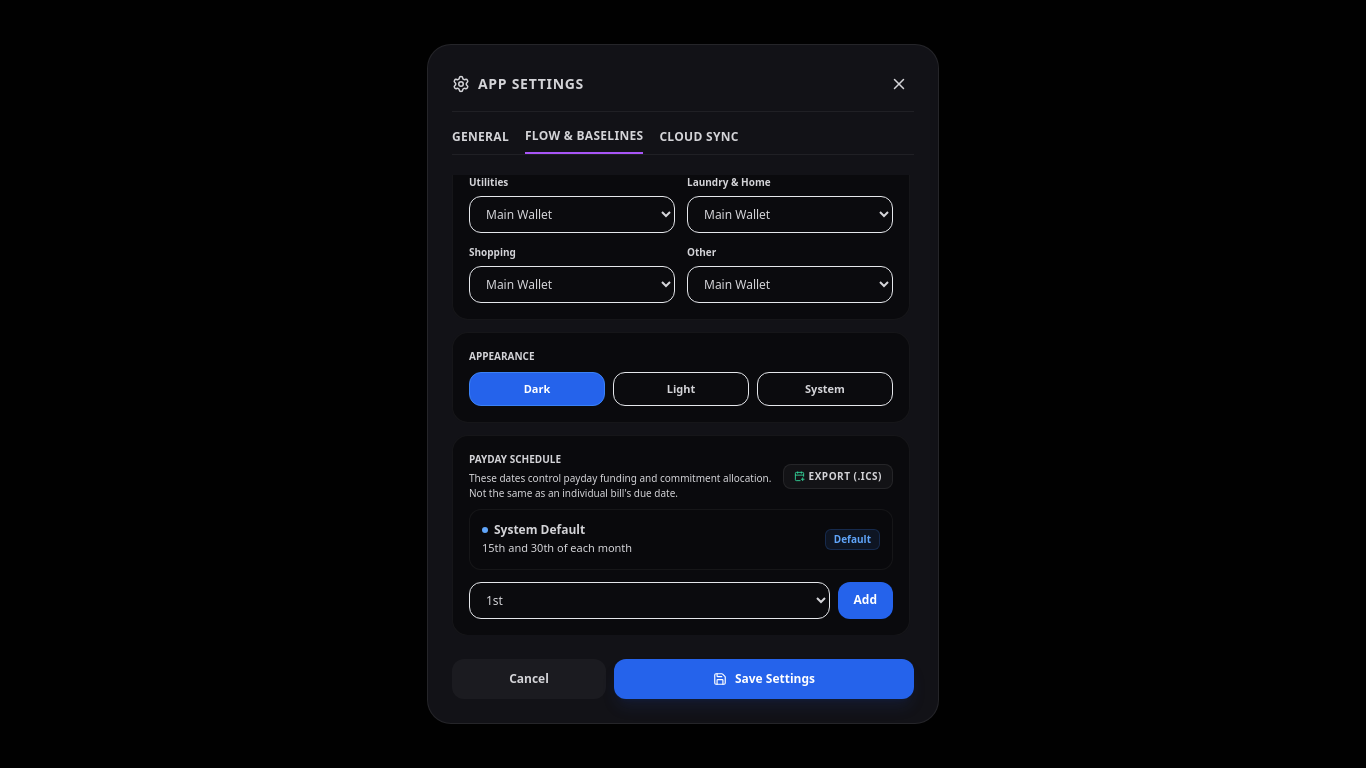
Test: SettingsModal - Custom Payday Configuration › adds a custom payday from the selector and removes System Default UI
(page scrolled)
Expected: the text "System Default" is shown, left=482, top=521, right=585, bottom=538
Select "5th" in the dropdown named "select payday day": (649, 600) left=469, top=582, right=830, bottom=619
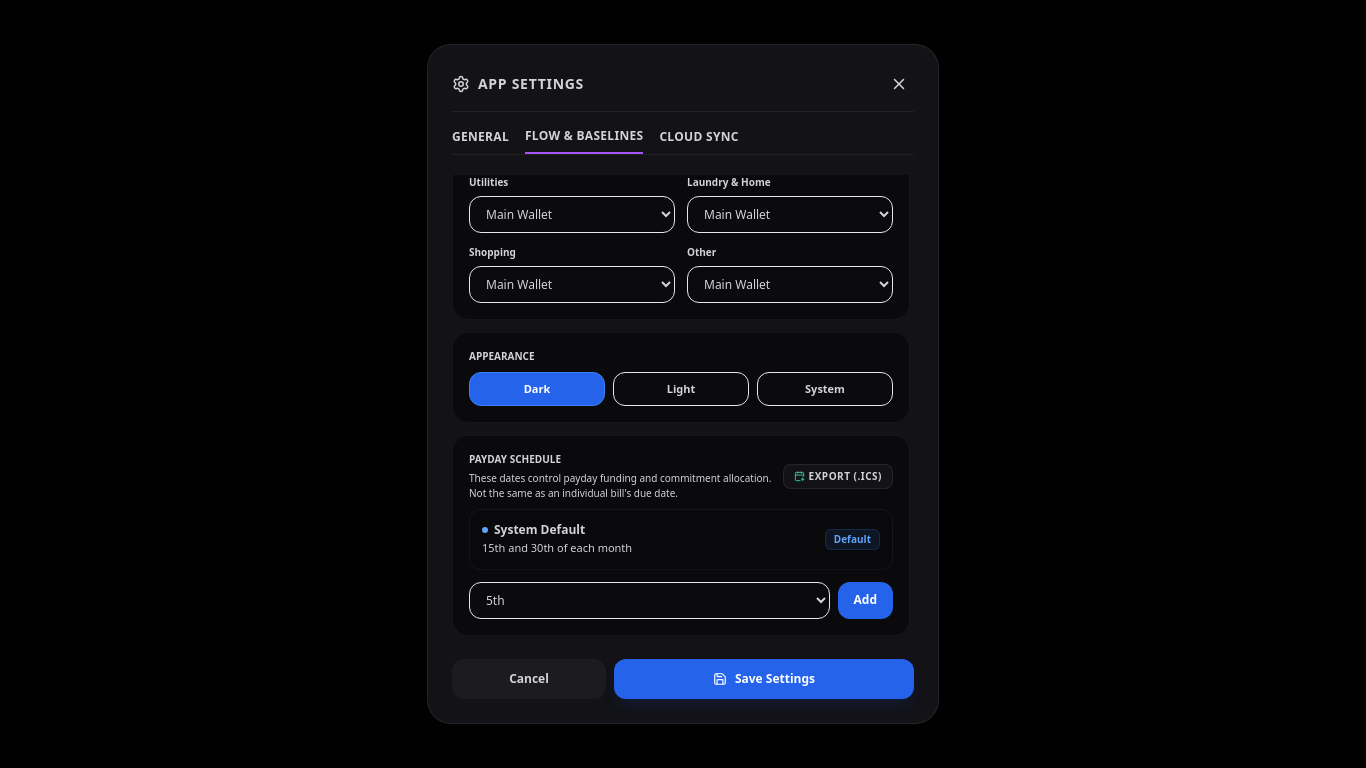
Click the button "Add": (865, 600) left=838, top=582, right=893, bottom=619
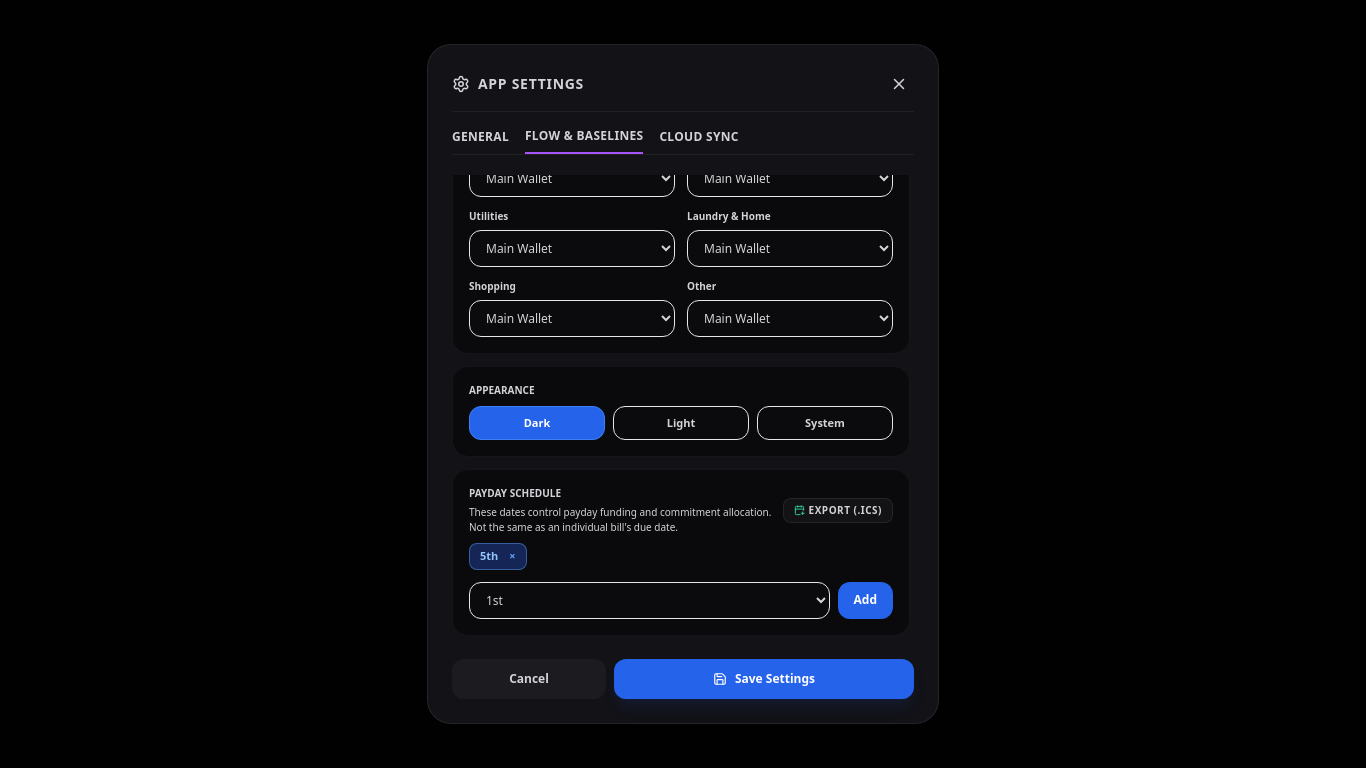
Expected: the text "5th" is shown, left=480, top=548, right=498, bottom=563
Expected: the text "System Default" is gone
Expected: the button named "Remove payday 5" is shown, left=504, top=548, right=520, bottom=564
